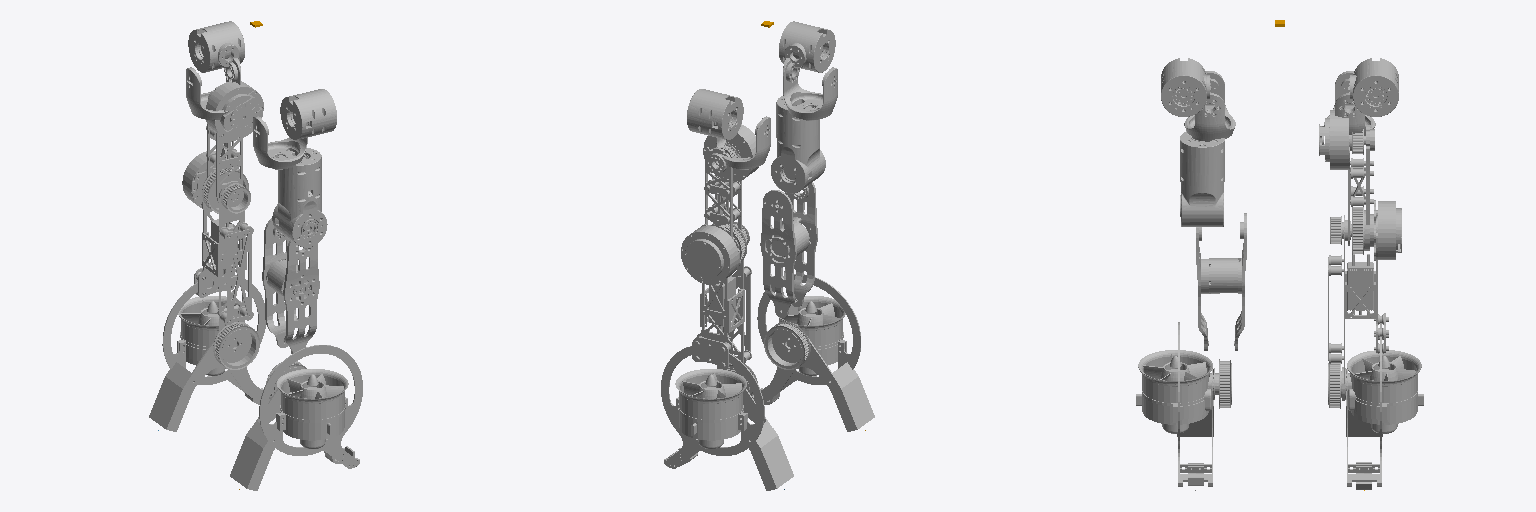
--- What the picture shows (computed from the rendered views, not written in the file) ---
The picture shows the robot from 3 angles, left to right: view 1: azimuth 30°, elevation 25°; view 2: azimuth 150°, elevation 25°; view 3: azimuth 270°, elevation 25°; orthographic projection.
Model legged_dm_description_no_arm with 17 links and 16 joints (10 revolute, 6 fixed), rooted at base_link, posed every joint at zero.
Visible links, largest first — view 1: leg_r5_link, leg_l5_link, leg_l4_link, leg_r4_link, leg_l3_link, leg_r3_link, leg_r1_link, leg_l1_link, leg_r2_link, leg_l2_link; view 2: leg_l5_link, leg_r5_link, leg_l4_link, leg_r4_link, leg_l3_link, leg_r3_link, leg_l1_link, leg_r1_link, leg_r2_link, leg_l2_link; view 3: leg_r5_link, leg_l5_link, leg_l4_link, leg_l3_link, leg_r3_link, leg_r4_link, leg_l1_link, leg_r1_link, leg_r2_link, leg_l2_link.
Boxes of the visible links, x1,y1,x2,y2 form: leg_r5_link: (230,345,362,490); leg_l5_link: (149,275,269,431); leg_l4_link: (182,151,253,331); leg_r4_link: (262,218,319,353); leg_l3_link: (192,81,263,213); leg_r3_link: (272,148,327,247); leg_r1_link: (280,89,336,139); leg_l1_link: (188,21,244,72); leg_r2_link: (253,116,307,169); leg_l2_link: (186,58,240,119); leg_l5_link: (661,346,793,490); leg_r5_link: (754,274,874,431); leg_l4_link: (681,222,751,376); leg_r4_link: (760,182,817,317); leg_l3_link: (701,124,758,266); leg_r3_link: (771,96,825,193); leg_l1_link: (687,89,743,139); leg_r1_link: (779,21,835,72); leg_r2_link: (783,58,837,120); leg_l2_link: (716,116,770,169); leg_r5_link: (1136,322,1231,486); leg_l5_link: (1328,323,1423,489); leg_l4_link: (1328,201,1401,400); leg_l3_link: (1319,110,1375,260); leg_r3_link: (1180,131,1224,226); leg_r4_link: (1196,213,1246,350); leg_l1_link: (1350,58,1398,116); leg_r1_link: (1161,58,1209,116); leg_r2_link: (1184,71,1235,141); leg_l2_link: (1324,71,1375,135).
Size in the robot's own frame: 0.2254 by 0.4614 by 0.7815 metres.
Meshes: 12 distinct files referenced, 10 mesh visuals loaded (10 binary STL); not drawn: 2 (reference not matched to a file when rendering).

The robot description file, URDF, robot "legged_dm_description_no_arm":
<?xml version="1.0" encoding="utf-8"?>
<!-- This URDF was automatically created by SolidWorks to URDF Exporter! Originally created by Stephen Brawner ([email redacted]) 
     Commit Version: 1.6.0-4-g7f85cfe  Build Version: 1.6.7995.38578
     For more information, please see http://wiki.ros.org/sw_urdf_exporter -->
<robot
  name="legged_dm_description_no_arm">
  
  
    <gazebo>
    <plugin name="gazebo_ros_control" filename="libdm_bipedal_hw_sim.so">
      <robotNamespace>/</robotNamespace>
      <robotParam>legged_robot_description</robotParam>
      <robotSimType>legged_gazebo/LeggedHWSim</robotSimType>
    </plugin>
  </gazebo>

  <gazebo>
    <plugin filename="libgazebo_ros_p3d.so" name="p3d_base_controller">
      <alwaysOn>true</alwaysOn>
      <updateRate>500.0</updateRate>
      <bodyName>base_link</bodyName>
      <topicName>ground_truth/state</topicName>
      <gaussianNoise>0</gaussianNoise>
      <frameName>world</frameName>
      <xyzOffsets>0 0 0</xyzOffsets>
      <rpyOffsets>0 0 0</rpyOffsets>
    </plugin>
  </gazebo>
  
  
     <joint name="imu_joint" type="fixed">
    <origin rpy="0. 0. 0." xyz="0. 0. 0"/>
    <parent link="base_link"/>
    <child link="imu_link"/>
  </joint>
  <!-- Imu link -->
  <link name="imu_link">
    <inertial>
      <mass value="0.01"/>
      <origin rpy="0 0 0" xyz="0 0 0"/>
      <inertia ixx="0.000001" ixy="0" ixz="0" iyy="0.000001" iyz="0" izz="0.000001"/>
    </inertial>
    <visual>
      <origin rpy="0 0 0" xyz="0 0 0"/>
      <geometry>
        <box size="0.015 0.015 0.004"/>
      </geometry>
    </visual>
    <material name="orange">
      <color rgba="255 108 10 255"/>
    </material>
  </link>
  <gazebo reference="imu_joint">
    <disableFixedJointLumping>true</disableFixedJointLumping>
  </gazebo>
  
  
  <link
    name="base_link">
    <inertial>
      <origin
        xyz="-0.0184065819818286 0.00877988976428151 0.0510806875972531"
        rpy="0 0 0" />
      <mass
        value="8.80159264" />
      <inertia
        ixx="0.14775245"
        ixy="0.00171254"
        ixz="0.01822211"
        iyy="0.15431182"
        iyz="0.00278010"
        izz="0.18493669" />
    </inertial>
    <visual>
      <origin
        xyz="0 0 0"
        rpy="0 0 0" />
      <geometry>
        <mesh
          filename="package://legged_dm_description/meshes/base_link.STL" />
      </geometry>
      <material
        name="">
        <color
          rgba="0.752941176470588 0.752941176470588 0.752941176470588 1" />
      </material>
    </visual>
    <collision>
      <origin
        xyz="0.0045 0 0.0975"
        rpy="0 0 0" />
      <geometry>
        <box size="0.541 0.491 0.259" />
      </geometry>
    </collision>
  </link>
  
  
  <link
    name="loin_yaw_Link">
    <inertial>
      <origin
        xyz="-0.032699 -4.632E-05 -0.067781"
        rpy="0 0 0" />
      <mass
        value="1.65580951" />
      <inertia
        ixx="0.01832622"
        ixy="0.00000010"
        ixz="0.00050635"
        iyy="0.00292395"
        iyz="-0.00000154"
        izz="0.01995461" />
    </inertial>
    <visual>
      <origin
        xyz="0 0 0"
        rpy="0 0 0" />
      <geometry>
        <mesh
          filename="package://legged_dm_description/meshes/loin_yaw_Link.STL" />
      </geometry>
      <material
        name="">
        <color
          rgba="0.75294 0.75294 0.75294 1" />
      </material>
    </visual>
    <collision>
      <origin
        xyz="-0.016403 0 -0.052"
        rpy="0 0 0" />
      <geometry>
        <box size="0.15375 0.304 0.104" />
      </geometry>
    </collision>
  </link>
  <joint
    name="loin_yaw_joint"
    type="fixed">
    <origin
      xyz="0.0047974 0.00016221 -0.032"
      rpy="0 0 0" />
    <parent
      link="base_link" />
    <child
      link="loin_yaw_Link" />
    <axis
      xyz="0 0 0" />
  </joint>
  
  
  <link
    name="leg_l1_link">
    <inertial>
      <origin
        xyz="0.0074236 3.4944E-14 -0.010847"
        rpy="0 0 0" />
      <mass
        value="0.08223546" />
      <inertia
        ixx="0.00003751"
        ixy="0"
        ixz="0.00000662"
        iyy="0.00009398"
        iyz="0"
        izz="0.00009516" />
    </inertial>
    <visual>
      <origin
        xyz="0 0 0"
        rpy="0 0 0" />
      <geometry>
        <mesh
          filename="package://legged_dm_description/meshes/leg_l1_link.STL" />
      </geometry>
      <material
        name="">
        <color
          rgba="0.75294 0.75294 0.75294 1" />
      </material>
    </visual>
    <collision>
      <origin
        xyz="0 0 0"
        rpy="0 0 0" />
      <geometry>
        <box size="0.0001 0.0001 0.0001" />
      </geometry>
    </collision>
  </link>
  <joint
    name="leg_l1_joint"
    type="revolute">
    <origin
      xyz="0.0073473 0.112 -0.0755"
      rpy="0 0 0" />
    <parent
      link="loin_yaw_Link" />
    <child
      link="leg_l1_link" />
    <axis
      xyz="1 0 0" />
    <limit
      lower="-0.52"
      upper="0.785"
      effort="52"
      velocity="20" />
  </joint>
  
  
  <link
    name="leg_l2_link">
    <inertial>
      <origin
        xyz="5.2608E-05 0.036538 -0.048385"
        rpy="0 0 0" />
      <mass
        value="0.43655515" />
      <inertia
        ixx="0.00059952"
        ixy="0.00000062"
        ixz="-0.00000010"
        iyy="0.00019349"
        iyz="-0.00014563"
        izz="0.00048350" />
    </inertial>
    <visual>
      <origin
        xyz="0 0 0"
        rpy="0 0 0" />
      <geometry>
        <mesh
          filename="package://legged_dm_description/meshes/leg_l2_link.STL" />
      </geometry>
      <material
        name="">
        <color
          rgba="0.75294 0.75294 0.75294 1" />
      </material>
    </visual>
    <collision>
      <origin
        xyz="0 0 0"
        rpy="0 0 0" />
      <geometry>
        <box size="0.0001 0.0001 0.0001" />
      </geometry>
    </collision>
  </link>
  <joint
    name="leg_l2_joint"
    type="revolute">
    <origin
      xyz="0 0 -0.03"
      rpy="0 0 0" />
    <parent
      link="leg_l1_link" />
    <child
      link="leg_l2_link" />
    <axis
      xyz="0 0 1" />
    <limit
      lower="-0.52"
      upper="0.785"
      effort="52"
      velocity="20" />
  </joint>
  
  
  <link
    name="leg_l3_link">
    <inertial>
      <origin
        xyz="2.6182999422638E-05 -0.00739138775448847 -0.0672622976762378"
        rpy="0 0 0" />
      <mass
        value="1.06377080" />
      <inertia
        ixx="0.00585862"
        ixy="-0.00000112"
        ixz="0.00000759"
        iyy="0.00560481"
        iyz="-0.00121985"
        izz="0.00086513" />
    </inertial>
    <visual>
      <origin
        xyz="0 0 0"
        rpy="0 0 0" />
      <geometry>
        <mesh
          filename="package://legged_dm_description/meshes/leg_l3_link.STL" />
      </geometry>
      <material
        name="">
        <color
          rgba="0.752941176470588 0.752941176470588 0.752941176470588 1" />
      </material>
    </visual>
    <collision>
      <origin
        xyz="0 0 0"
        rpy="0 0 0" />
      <geometry>
        <box size="0.0001 0.0001 0.0001" />
      </geometry>
    </collision>
  </link>
  <joint
    name="leg_l3_joint"
    type="revolute">
    <origin
      xyz="0 0.01225 -0.062999"
      rpy="0 0 0" />
    <parent
      link="leg_l2_link" />
    <child
      link="leg_l3_link" />
    <axis
      xyz="0 1 0" />
    <limit
      lower="-1.57"
      upper="1.57"
      effort="52"
      velocity="20" />
  </joint>
  
  
  <link
    name="leg_l4_link">
    <inertial>
      <origin
        xyz="-0.00022241 0.013655 -0.079168"
        rpy="0 0 0" />
      <mass
        value="1.15073554" />
      <inertia
        ixx="0.00837738"
        ixy="0.00000270"
        ixz="0.00000829"
        iyy="0.00759727"
        iyz="0.00134186"
        izz="0.00135982" />
    </inertial>
    <visual>
      <origin
        xyz="0 0 0"
        rpy="0 0 0" />
      <geometry>
        <mesh
          filename="package://legged_dm_description/meshes/leg_l4_link.STL" />
      </geometry>
      <material
        name="">
        <color
          rgba="0.75294 0.75294 0.75294 1" />
      </material>
    </visual>
    <collision>
      <origin 
	xyz="0 0.010775 -0.12575"
	rpy="0 0 0" />
      <geometry>
        <box size="0.096 0.11795 0.3475" />
      </geometry>
    </collision>
  </link>
  <joint
    name="leg_l4_joint"
    type="revolute">
    <origin
      xyz="0 0.001 -0.16"
      rpy="0 0 0" />
    <parent
      link="leg_l3_link" />
    <child
      link="leg_l4_link" />
    <axis
      xyz="0 1 0" />
    <limit
      lower="-0.3"
      upper="2.3562"
      effort="52"
      velocity="20" />
  </joint>
  
  
  <link
    name="leg_l5_link">
    <inertial>
      <origin
        xyz="-0.00349497624323486 -0.0226631671020062 -0.0399555274396122"
        rpy="0 0 0" />
      <mass
        value="0.94676044" />
      <inertia
        ixx="0.00264085"
        ixy="0.00007192"
        ixz="0.00015760"
        iyy="0.00326986"
        iyz="0.00001047"
        izz="0.00252052" />
    </inertial>
    <visual>
      <origin
        xyz="0 0 0"
        rpy="0 0 0" />
      <geometry>
        <mesh
          filename="package://legged_dm_description/meshes/leg_l5_link.STL" />
      </geometry>
      <material
        name="">
        <color
          rgba="0.752941176470588 0.752941176470588 0.752941176470588 1" />
      </material>
    </visual>
     <collision>
      <origin
        xyz="-0.0122875 -0.026875 -0.0913"
        rpy="0 0 0" />
      <geometry>
        <box size="0.215425 0.05625 0.125" />
      </geometry>
    </collision>
  </link>
  <joint
    name="leg_l5_joint"
    type="revolute">
    <origin
      xyz="-0.0037585 0.03647 -0.26411"
      rpy="0 0 0" />
    <parent
      link="leg_l4_link" />
    <child
      link="leg_l5_link" />
    <axis
      xyz="0 1 0" />
    <limit
      lower="-1.57"
      upper="0.3"
      effort="52"
      velocity="20" />
  </joint>
  
  
  
  <joint name="leg_l5_fixed_1" type="fixed">
    <origin xyz="0.0954425 -0.026875 -0.1538" rpy="0 0 0" />
    <parent link="leg_l5_link" />
    <child link="leg_l_f1_link" />
  </joint>
  <link name="leg_l_f1_link">
    <inertial>
      <mass value="0.01" />
      <inertia ixx="0.000001" ixy="0" ixz="0" iyy="0.000001" iyz="0" izz="0.000001" />
    </inertial>
    <visual>
      <origin rpy="0 0 0" xyz="0 0 0"/>
      <geometry>
        <sphere radius="0.001"/>
      </geometry>
    </visual>
    <collision>
      <origin rpy="0 0 0" xyz="0 0 0"/>
      <geometry>
        <sphere radius="0.001"/>
      </geometry>
    </collision>
  </link>

  <joint name="leg_l5_fixed_2" type="fixed">
    <origin xyz="-0.12 -0.026875 -0.1538" rpy="0 0 0" />
    <parent link="leg_l5_link" />
    <child link="leg_l_f2_link" />
  </joint>
  <link name="leg_l_f2_link">
    <inertial>
      <mass value="0.01" />
      <inertia ixx="0.000001" ixy="0" ixz="0" iyy="0.000001" iyz="0" izz="0.000001" />
    </inertial>
    <visual>
      <origin rpy="0 0 0" xyz="0 0 0"/>
      <geometry>
        <sphere radius="0.001"/>
      </geometry>
    </visual>
    <collision>
      <origin rpy="0 0 0" xyz="-0 0 0"/>
      <geometry>
        <sphere radius="0.001"/>
      </geometry>
    </collision>
  </link>

   <gazebo reference="leg_l1_link">
    <mu1>0.6</mu1>
    <mu2>0.6</mu2>
    <self_collide>1</self_collide>
  </gazebo>
  <gazebo reference="leg_l2_link">
    <mu1>0.6</mu1>
    <mu2>0.6</mu2>
    <self_collide>1</self_collide>
  </gazebo>
  <gazebo reference="leg_l3_link">
    <mu1>0.6</mu1>
    <mu2>0.6</mu2>
    <self_collide>1</self_collide>
  </gazebo>
  <gazebo reference="leg_l4_link">
    <mu1>0.6</mu1>
    <mu2>0.6</mu2>
    <self_collide>1</self_collide>
  </gazebo>
  <gazebo reference="leg_l5_link">
    <mu1>0.7</mu1>
    <mu2>0.7</mu2>
    <self_collide>1</self_collide>
    <kp value="1000000.0"/>
    <kd value="100.0"/>
    <maxVel>1.0</maxVel>
    <minDepth>0.00</minDepth>
  </gazebo>
  <gazebo reference="leg_l_f1_link">
    <mu1>2.0</mu1>
    <mu2>2.0</mu2>
    <self_collide>1</self_collide>
    <kp value="1000000.0"/>
    <kd value="100.0"/>
    <maxVel>1.0</maxVel>
    <minDepth>0.00</minDepth>
  </gazebo>
  <gazebo reference="leg_l_f2_link">
    <mu1>2.0</mu1>
    <mu2>2.0</mu2>
    <self_collide>1</self_collide>
    <kp value="1000000.0"/>
    <kd value="100.0"/>
    <maxVel>1.0</maxVel>
    <minDepth>0.00</minDepth>
  </gazebo>

  <transmission name="leg_l1_tran">
    <type>transmission_interface/SimpleTransmission</type>
    <joint name="leg_l1_joint">
      <hardwareInterface>hardware_interface/EffortJointInterface</hardwareInterface>
    </joint>
    <actuator name="leg_l1_motor">
      <hardwareInterface>hardware_interface/EffortJointInterface</hardwareInterface>
      <mechanicalReduction>1</mechanicalReduction>
    <maxVelocity>1.484</maxVelocity><!-- 85rpm -->
	  <maxEffort>36.0</maxEffort><!-- 36Nm -->
    </actuator>
  </transmission>

  <transmission name="leg_l2_tran">
    <type>transmission_interface/SimpleTransmission</type>
    <joint name="leg_l2_joint">
      <hardwareInterface>hardware_interface/EffortJointInterface</hardwareInterface>
    </joint>
    <actuator name="leg_l2_motor">
      <hardwareInterface>hardware_interface/EffortJointInterface</hardwareInterface>
      <mechanicalReduction>1</mechanicalReduction>
    <maxVelocity>2.6545</maxVelocity><!-- 160rpm -->
	  <maxEffort>94.0</maxEffort><!-- 94Nm -->
    </actuator>
  </transmission>

  <transmission name="leg_l3_tran">
    <type>transmission_interface/SimpleTransmission</type>
    <joint name="leg_l3_joint">
      <hardwareInterface>hardware_interface/EffortJointInterface</hardwareInterface>
    </joint>
    <actuator name="leg_l3_motor">
      <hardwareInterface>hardware_interface/EffortJointInterface</hardwareInterface>
      <mechanicalReduction>1</mechanicalReduction>
    <maxVelocity>2.6545</maxVelocity><!-- 160rpm -->
	  <maxEffort>94.0</maxEffort><!-- 94Nm -->
    </actuator>
  </transmission>

  <transmission name="leg_l4_tran">
    <type>transmission_interface/SimpleTransmission</type>
    <joint name="leg_l4_joint">
      <hardwareInterface>hardware_interface/EffortJointInterface</hardwareInterface>
    </joint>
    <actuator name="leg_l4_motor">
      <hardwareInterface>hardware_interface/EffortJointInterface</hardwareInterface>
      <mechanicalReduction>1</mechanicalReduction>
    <maxVelocity>1.484</maxVelocity><!-- 85rpm -->
	<maxEffort>36.0</maxEffort><!-- 36Nm -->
    </actuator>
  </transmission>

  <transmission name="leg_l5_tran">
    <type>transmission_interface/SimpleTransmission</type>
    <joint name="leg_l5_joint">
      <hardwareInterface>hardware_interface/EffortJointInterface</hardwareInterface>
    </joint>
    <actuator name="leg_l5_motor">
      <hardwareInterface>hardware_interface/EffortJointInterface</hardwareInterface>
      <mechanicalReduction>1</mechanicalReduction>
    </actuator>
  </transmission>





  
  <link
    name="leg_r1_link">
    <inertial>
      <origin
        xyz="0.0074236325652069 6.80011602582908E-16 -0.0108468454554058"
        rpy="0 0 0" />
      <mass
        value="0.08223546" />
      <inertia
        ixx="0.00003751"
        ixy="0"
        ixz="0.00000662"
        iyy="0.00009398"
        iyz="0"
        izz="0.00009516" />
    </inertial>
    <visual>
      <origin
        xyz="0 0 0"
        rpy="0 0 0" />
      <geometry>
        <mesh
          filename="package://legged_dm_description/meshes/leg_r1_link.STL" />
      </geometry>
      <material
        name="">
        <color
          rgba="0.752941176470588 0.752941176470588 0.752941176470588 1" />
      </material>
    </visual>
    <collision>
      <origin
        xyz="0 0 0"
        rpy="0 0 0" />
      <geometry>
        <box size="0.0001 0.0001 0.0001" />
      </geometry>
    </collision>
  </link>
  <joint
    name="leg_r1_joint"
    type="revolute">
    <origin
      xyz="0.0073473 -0.112 -0.0755"
      rpy="0 0 0" />
    <parent
      link="loin_yaw_Link" />
    <child
      link="leg_r1_link" />
    <axis
      xyz="1 0 0" />
    <limit
      lower="-0.785"
      upper="0.52"
      effort="52"
      velocity="20" />
  </joint>
  
  
  <link
    name="leg_r2_link">
    <inertial>
      <origin
        xyz="-5.26075349589691E-05 -0.036537929402166 -0.0483849611379578"
        rpy="0 0 0" />
      <mass
        value="0.43655515" />
      <inertia
        ixx="0.00059952"
        ixy="0.00000062"
        ixz="0.00000010"
        iyy="0.00019349"
        iyz="0.00014563"
        izz="0.00048350" />
    </inertial>
    <visual>
      <origin
        xyz="0 0 0"
        rpy="0 0 0" />
      <geometry>
        <mesh
          filename="package://legged_dm_description/meshes/leg_r2_link.STL" />
      </geometry>
      <material
        name="">
        <color
          rgba="0.752941176470588 0.752941176470588 0.752941176470588 1" />
      </material>
    </visual>
    <collision>
      <origin
        xyz="0 0 0"
        rpy="0 0 0" />
      <geometry>
        <box size="0.0001 0.0001 0.0001" />
      </geometry>
    </collision>
  </link>
  <joint
    name="leg_r2_joint"
    type="revolute">
    <origin
      xyz="0 0 -0.03"
      rpy="0 0 0" />
    <parent
      link="leg_r1_link" />
    <child
      link="leg_r2_link" />
    <axis
      xyz="0 0 1" />
    <limit
      lower="-0.785"
      upper="0.52"
      effort="52"
      velocity="20" />
  </joint>
  
  
  <link
    name="leg_r3_link">
    <inertial>
      <origin
        xyz="-2.61829986850266E-05 0.00739138775572923 -0.0672622976741981"
        rpy="0 0 0" />
      <mass
        value="1.06377080" />
      <inertia
        ixx="0.00585862"
        ixy="-0.00000112"
        ixz="-0.00000759"
        iyy="0.00560481"
        iyz="0.00121985"
        izz="0.00086513" />
    </inertial>
    <visual>
      <origin
        xyz="0 0 0"
        rpy="0 0 0" />
      <geometry>
        <mesh
          filename="package://legged_dm_description/meshes/leg_r3_link.STL" />
      </geometry>
      <material
        name="">
        <color
          rgba="0.752941176470588 0.752941176470588 0.752941176470588 1" />
      </material>
    </visual>
    <collision>
      <origin
        xyz="0 0 0"
        rpy="0 0 0" />
      <geometry>
        <box size="0.0001 0.0001 0.0001" />
      </geometry>
    </collision>
  </link>
  <joint
    name="leg_r3_joint"
    type="revolute">
    <origin
      xyz="0 -0.01225 -0.062999"
      rpy="0 0 0" />
    <parent
      link="leg_r2_link" />
    <child
      link="leg_r3_link" />
    <axis
      xyz="0 1 0" />
    <limit
      lower="-1.57"
      upper="1.57"
      effort="52"
      velocity="20" />
  </joint>
  
  
  <link
    name="leg_r4_link">
    <inertial>
      <origin
        xyz="0.000222411737605985 -0.0136554135665731 -0.0791679110236052"
        rpy="0 0 0" />
      <mass
        value="1.15073554" />
      <inertia
        ixx="0.00837738"
        ixy="0.00000270"
        ixz="-0.00000829"
        iyy="0.00759727"
        iyz="-0.00134186"
        izz="0.00135982" />
    </inertial>
    <visual>
      <origin
        xyz="0 0 0"
        rpy="0 0 0" />
      <geometry>
        <mesh
          filename="package://legged_dm_description/meshes/leg_r4_link.STL" />
      </geometry>
      <material
        name="">
        <color
          rgba="0.752941176470588 0.752941176470588 0.752941176470588 1" />
      </material>
    </visual>
    <collision>
      <origin
	    xyz="0 -0.010775 -0.12575"
	    rpy="0 0 0" />
      <geometry>
        <box size="0.096 0.11795 0.3475" />
      </geometry>
    </collision>
  </link>
  <joint
    name="leg_r4_joint"
    type="revolute">
    <origin
      xyz="0 -0.001 -0.16"
      rpy="0 0 0" />
    <parent
      link="leg_r3_link" />
    <child
      link="leg_r4_link" />
    <axis
      xyz="0 1 0" />
    <limit
      lower="-0.3"
      upper="2.3562"
      effort="52"
      velocity="20" />
  </joint>
  
  
  <link
    name="leg_r5_link">
    <inertial>
      <origin
        xyz="-0.00347717419516151 0.0226631670917011 -0.0399254519866233"
        rpy="0 0 0" />
      <mass
        value="0.94676044" />
      <inertia
        ixx="0.00263623"
        ixy="-0.00007177"
        ixz="0.00015829"
        iyy="0.00326742"
        iyz="-0.00001022"
        izz="0.00252270" />
    </inertial>
    <visual>
      <origin
        xyz="0 0 0"
        rpy="0 0 0" />
      <geometry>
        <mesh
          filename="package://legged_dm_description/meshes/leg_r5_link.STL" />
      </geometry>
      <material
        name="">
        <color
          rgba="0.752941176470588 0.752941176470588 0.752941176470588 1" />
      </material>
    </visual>
    <collision>
      <origin
        xyz="-0.0122875 0.026875 -0.0913"
        rpy="0 0 0" />
      <geometry>
        <box size="0.215425 0.05625 0.125" />
      </geometry>
    </collision>
  </link>
  <joint
    name="leg_r5_joint"
    type="revolute">
    <origin
      xyz="-0.0037585 -0.03647 -0.26411"
      rpy="0 0 0" />
    <parent
      link="leg_r4_link" />
    <child
      link="leg_r5_link" />
    <axis
      xyz="0 1 0" />
    <limit
      lower="-1.57"
      upper="0.3"
      effort="52"
      velocity="20" />
  </joint>
  
  
  <joint name="leg_r5_fixed_1" type="fixed">
    <origin xyz="0.0954425 0.026875 -0.1538" rpy="0 0 0" />
    <parent link="leg_r5_link" />
    <child link="leg_r_f1_link" />
  </joint>
  <link name="leg_r_f1_link">
    <inertial>
      <mass value="0.01" />
      <inertia ixx="0.000001" ixy="0" ixz="0" iyy="0.000001" iyz="0" izz="0.000001" />
    </inertial>
    <visual>
      <origin rpy="0 0 0" xyz="0 0 0"/>
      <geometry>
        <sphere radius="0.001"/>
      </geometry>
    </visual>
    <collision>
      <origin rpy="0 0 0" xyz="0 0 0"/>
      <geometry>
        <sphere radius="0.001"/>
      </geometry>
    </collision>
  </link>

  <joint name="leg_r5_fixed_2" type="fixed">
    <origin xyz="-0.12 0.026875 -0.1538" rpy="0 0 0" />
    <parent link="leg_r5_link" />
    <child link="leg_r_f2_link" />
  </joint>
  <link name="leg_r_f2_link">
    <inertial>
      <mass value="0.01" />
      <inertia ixx="0.000001" ixy="0" ixz="0" iyy="0.000001" iyz="0" izz="0.000001" />
    </inertial>
    <visual>
      <origin rpy="0 0 0" xyz="0 0 0"/>
      <geometry>
        <sphere radius="0.001"/>
      </geometry>
    </visual>
    <collision>
      <origin rpy="0 0 0" xyz="0 0 0"/>
      <geometry>
        <sphere radius="0.001"/>
      </geometry>
    </collision>
  </link>

  
  
    <gazebo reference="leg_r1_link">
    <mu1>0.6</mu1>
    <mu2>0.6</mu2>
    <self_collide>1</self_collide>
  </gazebo>
  <gazebo reference="leg_r2_link">
    <mu1>0.6</mu1>
    <mu2>0.6</mu2>
    <self_collide>1</self_collide>
  </gazebo>
  <gazebo reference="leg_r3_link">
    <mu1>0.6</mu1>
    <mu2>0.6</mu2>
    <self_collide>1</self_collide>
  </gazebo>
  <gazebo reference="leg_r4_link">
    <mu1>0.6</mu1>
    <mu2>0.6</mu2>
    <self_collide>1</self_collide>
  </gazebo>
  <gazebo reference="leg_r5_link">
    <mu1>0.7</mu1>
    <mu2>0.7</mu2>
    <self_collide>1</self_collide>
    <kp value="1000000.0"/>
    <kd value="100.0"/>
    <maxVel>1.0</maxVel>
    <minDepth>0.00</minDepth>
  </gazebo>
  <gazebo reference="leg_r_f1_link">
    <mu1>2.0</mu1>
    <mu2>2.0</mu2>
    <self_collide>1</self_collide>
    <kp value="1000000.0"/>
    <kd value="100.0"/>
    <maxVel>1.0</maxVel>
    <minDepth>0.00</minDepth>
  </gazebo>
  <gazebo reference="leg_r_f2_link">
    <mu1>2.0</mu1>
    <mu2>2.0</mu2>
    <self_collide>1</self_collide>
    <kp value="1000000.0"/>
    <kd value="100.0"/>
    <maxVel>1.0</maxVel>
    <minDepth>0.00</minDepth>
  </gazebo>

  <transmission name="leg_r1_tran">
    <type>transmission_interface/SimpleTransmission</type>
    <joint name="leg_r1_joint">
      <hardwareInterface>hardware_interface/EffortJointInterface</hardwareInterface>
    </joint>
    <actuator name="leg_r1_motor">
      <hardwareInterface>hardware_interface/EffortJointInterface</hardwareInterface>
      <mechanicalReduction>1</mechanicalReduction>
      	  <maxVelocity>1.484</maxVelocity><!-- 85rpm -->
	<maxEffort>36.0</maxEffort><!-- 36Nm -->
    </actuator>
  </transmission>

  <transmission name="leg_r2_tran">
    <type>transmission_interface/SimpleTransmission</type>
    <joint name="leg_r2_joint">
      <hardwareInterface>hardware_interface/EffortJointInterface</hardwareInterface>
    </joint>
    <actuator name="leg_r2_motor">
      <hardwareInterface>hardware_interface/EffortJointInterface</hardwareInterface>
      <mechanicalReduction>1</mechanicalReduction>
      	  <maxVelocity>2.6545</maxVelocity><!-- 160rpm -->
	  <maxEffort>94.0</maxEffort><!-- 94Nm -->
    </actuator>
  </transmission>

  <transmission name="leg_r3_tran">
    <type>transmission_interface/SimpleTransmission</type>
    <joint name="leg_r3_joint">
      <hardwareInterface>hardware_interface/EffortJointInterface</hardwareInterface>
    </joint>
    <actuator name="leg_r3_motor">
      <hardwareInterface>hardware_interface/EffortJointInterface</hardwareInterface>
      <mechanicalReduction>1</mechanicalReduction>
      	  <maxVelocity>2.6545</maxVelocity><!-- 160rpm -->
	  <maxEffort>94.0</maxEffort><!-- 94Nm -->
    </actuator>
  </transmission>

  <transmission name="leg_r4_tran">
    <type>transmission_interface/SimpleTransmission</type>
    <joint name="leg_r4_joint">
      <hardwareInterface>hardware_interface/EffortJointInterface</hardwareInterface>
    </joint>
    <actuator name="leg_r4_motor">
      <hardwareInterface>hardware_interface/EffortJointInterface</hardwareInterface>
      <mechanicalReduction>1</mechanicalReduction>
      	  <maxVelocity>1.484</maxVelocity><!-- 85rpm -->
	<maxEffort>36.0</maxEffort><!-- 36Nm -->
    </actuator>
  </transmission>

  <transmission name="leg_r5_tran">
    <type>transmission_interface/SimpleTransmission</type>
    <joint name="leg_r5_joint">
      <hardwareInterface>hardware_interface/EffortJointInterface</hardwareInterface>
    </joint>
    <actuator name="leg_r5_motor">
      <hardwareInterface>hardware_interface/EffortJointInterface</hardwareInterface>
      <mechanicalReduction>1</mechanicalReduction>
    </actuator>
  </transmission>
</robot>
